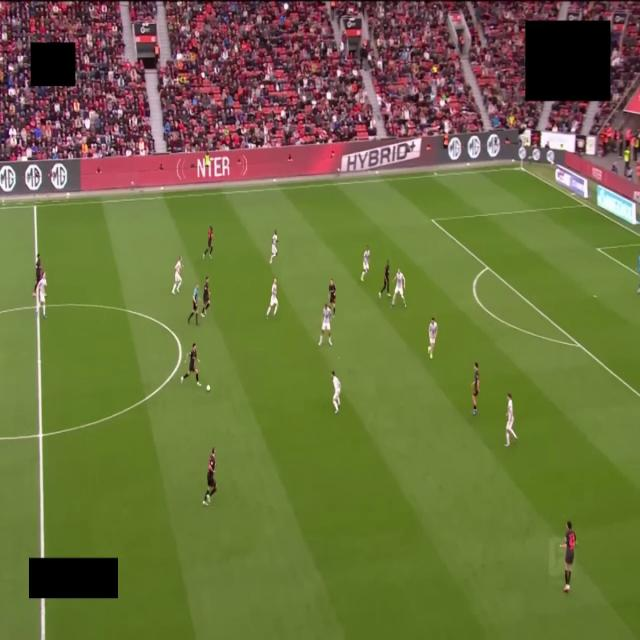ball: (206, 385, 210, 391)
player: (561, 521, 575, 592), (181, 343, 201, 386), (203, 448, 216, 505), (506, 393, 517, 447), (391, 269, 406, 306), (319, 304, 332, 345), (267, 279, 278, 319), (33, 253, 43, 297), (37, 272, 46, 318), (379, 261, 390, 297), (172, 256, 182, 294), (472, 362, 479, 415), (332, 371, 340, 414), (429, 318, 437, 359), (203, 226, 213, 258), (201, 277, 209, 317), (361, 247, 369, 280), (270, 231, 277, 263), (329, 280, 335, 317), (638, 255, 639, 274)
referee: (188, 285, 198, 325)
